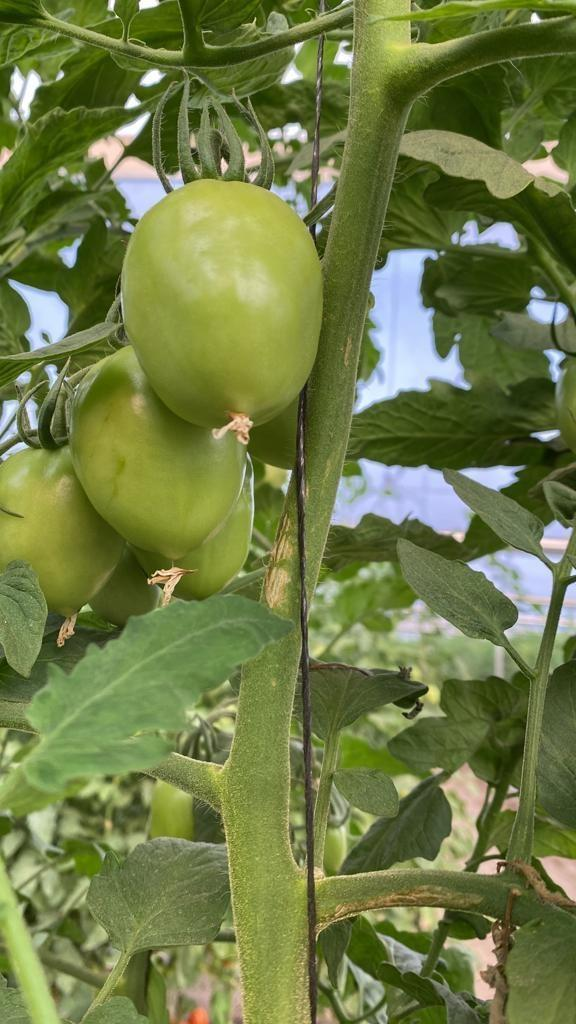Rugose leaf: (86, 838, 230, 1007)
Rugose stem: (306, 0, 574, 581), (222, 636, 310, 1023), (318, 870, 512, 927)
